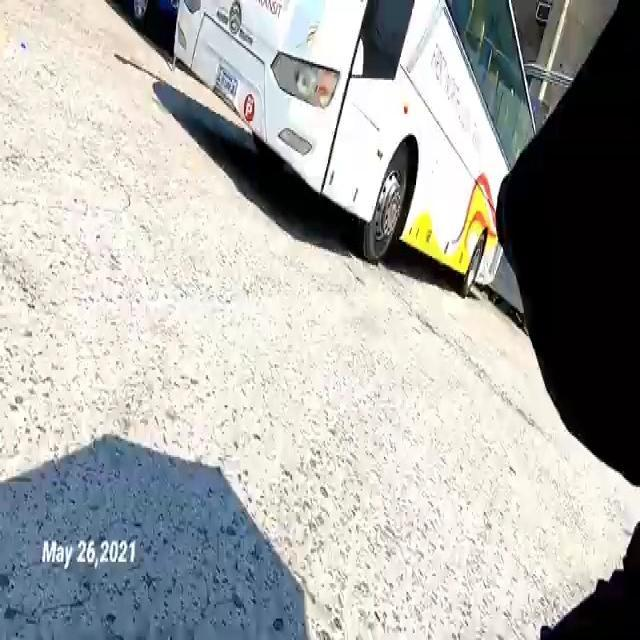bus: (172, 0, 536, 301)
